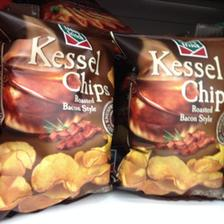Chips: (0, 13, 116, 217), (121, 30, 223, 194)
